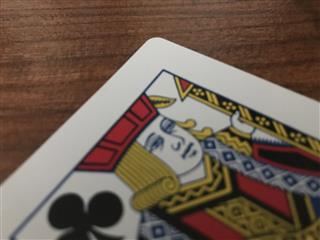JackOfClubs: (1, 36, 320, 240)
